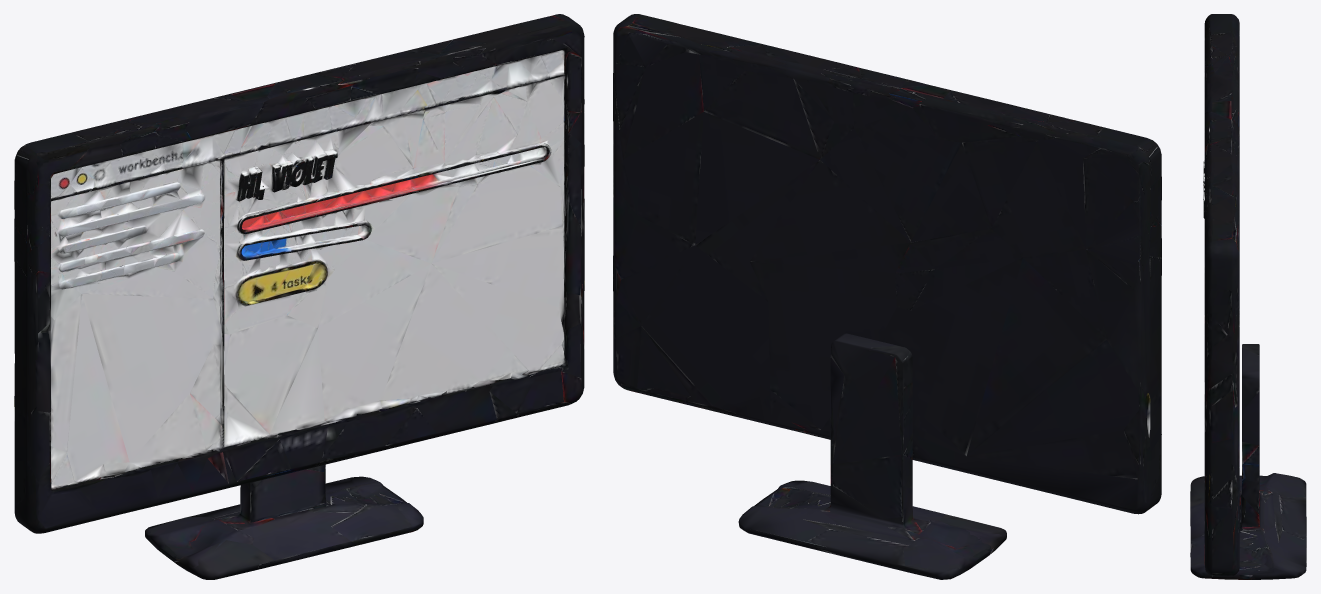
The model's file is monitor.glb.
3 renders of one model, left to right at view 1: azimuth 30°, elevation 25°; view 2: azimuth 150°, elevation 25°; view 3: azimuth 270°, elevation 25°, orthographic. The views are drawn at different scales.
Size of the model in its own units: 1.9 by 1.5 by 0.3914.
Materials: 1 (1 with a texture image).
